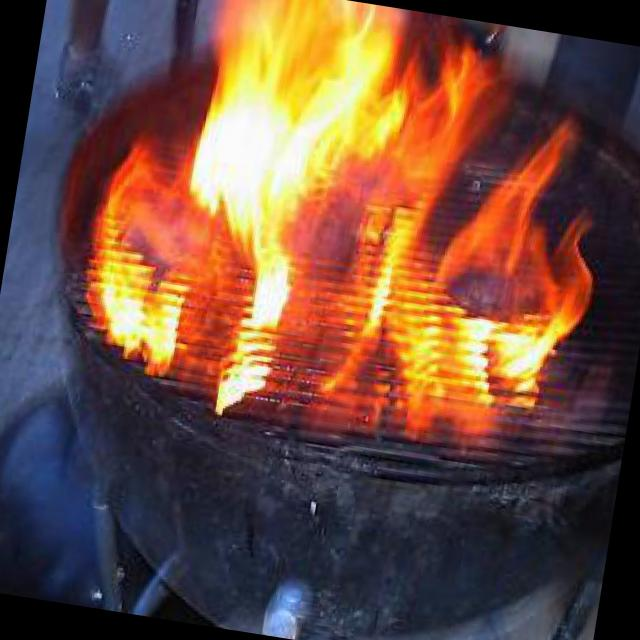fire: (92, 0, 640, 448)
